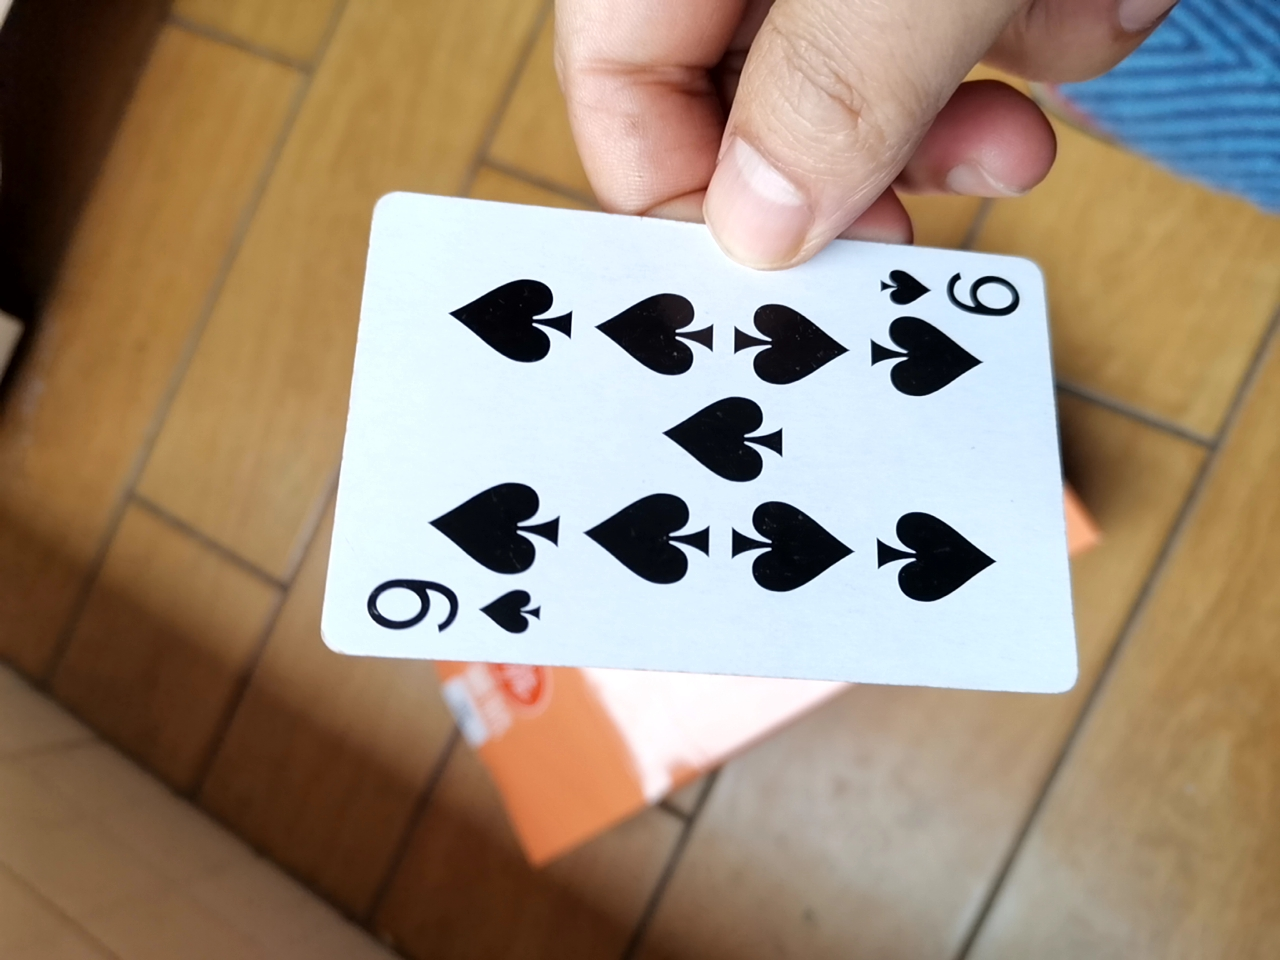ht 9: (304, 192, 1094, 718)
